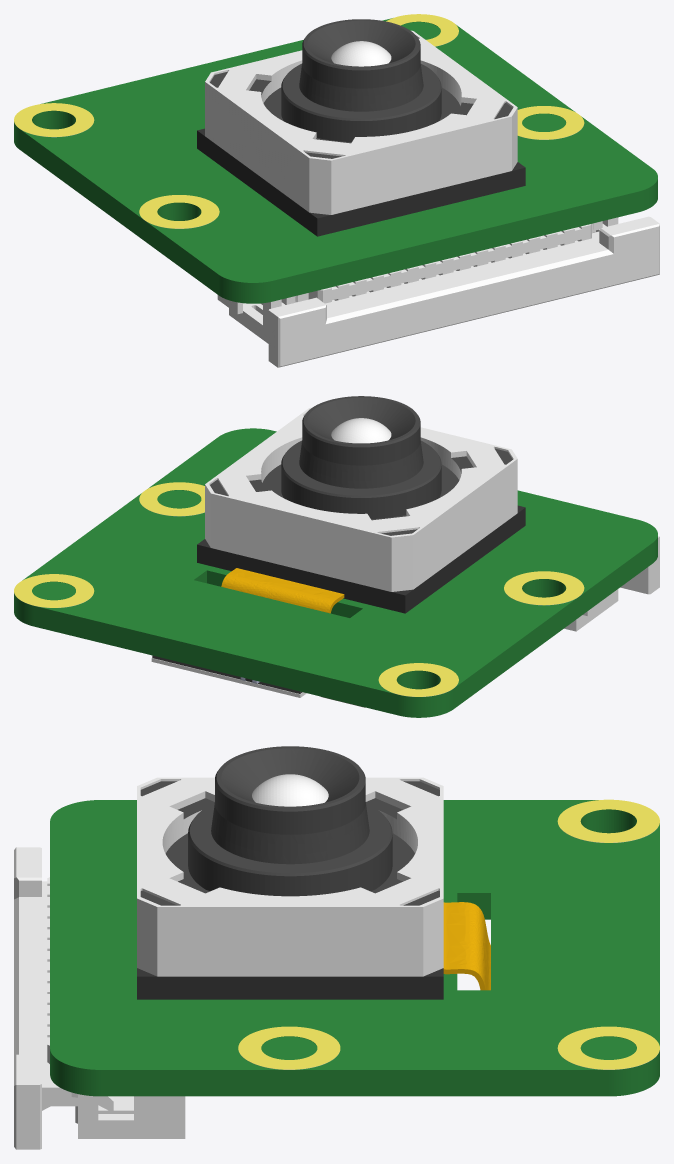
Rendered from camera.dae.
The picture shows the model from 3 angles, top to bottom: view 1: azimuth 30°, elevation 25°; view 2: azimuth 150°, elevation 25°; view 3: azimuth 270°, elevation 25°; orthographic projection. The views are drawn at different scales.
Visible parts, largest first — view 1: node_e5c1b228_738f_49db_8c3d_1d44927bc60f_mesh9, node_e5c1b228_738f_49db_8c3d_1d44927bc60f_mesh5, node_e5c1b228_738f_49db_8c3d_1d44927bc60f_mesh2, node_e5c1b228_738f_49db_8c3d_1d44927bc60f_mesh19, node_e5c1b228_738f_49db_8c3d_1d44927bc60f_mesh22, node_e5c1b228_738f_49db_8c3d_1d44927bc60f_mesh24; view 2: node_e5c1b228_738f_49db_8c3d_1d44927bc60f_mesh9, node_e5c1b228_738f_49db_8c3d_1d44927bc60f_mesh2, node_e5c1b228_738f_49db_8c3d_1d44927bc60f_mesh19, node_e5c1b228_738f_49db_8c3d_1d44927bc60f_mesh5, node_e5c1b228_738f_49db_8c3d_1d44927bc60f_mesh24, node_e5c1b228_738f_49db_8c3d_1d44927bc60f_mesh22, node_e5c1b228_738f_49db_8c3d_1d44927bc60f_mesh26, node_e5c1b228_738f_49db_8c3d_1d44927bc60f_mesh23; view 3: node_e5c1b228_738f_49db_8c3d_1d44927bc60f_mesh9, node_e5c1b228_738f_49db_8c3d_1d44927bc60f_mesh5, node_e5c1b228_738f_49db_8c3d_1d44927bc60f_mesh19, node_e5c1b228_738f_49db_8c3d_1d44927bc60f_mesh2, node_e5c1b228_738f_49db_8c3d_1d44927bc60f_mesh24, node_e5c1b228_738f_49db_8c3d_1d44927bc60f_mesh22, node_e5c1b228_738f_49db_8c3d_1d44927bc60f_mesh26, node_e5c1b228_738f_49db_8c3d_1d44927bc60f_mesh23.
Boxes of the visible parts, bbox=[...] form: node_e5c1b228_738f_49db_8c3d_1d44927bc60f_mesh9: bbox=[14, 18, 657, 303]; node_e5c1b228_738f_49db_8c3d_1d44927bc60f_mesh5: bbox=[15, 30, 659, 367]; node_e5c1b228_738f_49db_8c3d_1d44927bc60f_mesh2: bbox=[20, 35, 659, 367]; node_e5c1b228_738f_49db_8c3d_1d44927bc60f_mesh19: bbox=[249, 19, 473, 143]; node_e5c1b228_738f_49db_8c3d_1d44927bc60f_mesh22: bbox=[197, 128, 525, 236]; node_e5c1b228_738f_49db_8c3d_1d44927bc60f_mesh24: bbox=[14, 14, 584, 228]; node_e5c1b228_738f_49db_8c3d_1d44927bc60f_mesh9: bbox=[14, 428, 657, 717]; node_e5c1b228_738f_49db_8c3d_1d44927bc60f_mesh2: bbox=[20, 418, 659, 697]; node_e5c1b228_738f_49db_8c3d_1d44927bc60f_mesh19: bbox=[249, 396, 473, 520]; node_e5c1b228_738f_49db_8c3d_1d44927bc60f_mesh5: bbox=[90, 407, 648, 697]; node_e5c1b228_738f_49db_8c3d_1d44927bc60f_mesh24: bbox=[14, 482, 584, 696]; node_e5c1b228_738f_49db_8c3d_1d44927bc60f_mesh22: bbox=[197, 505, 525, 613]; node_e5c1b228_738f_49db_8c3d_1d44927bc60f_mesh26: bbox=[221, 568, 344, 613]; node_e5c1b228_738f_49db_8c3d_1d44927bc60f_mesh23: bbox=[152, 448, 512, 693]; node_e5c1b228_738f_49db_8c3d_1d44927bc60f_mesh9: bbox=[50, 800, 659, 1096]; node_e5c1b228_738f_49db_8c3d_1d44927bc60f_mesh5: bbox=[14, 777, 657, 1149]; node_e5c1b228_738f_49db_8c3d_1d44927bc60f_mesh19: bbox=[165, 746, 414, 896]; node_e5c1b228_738f_49db_8c3d_1d44927bc60f_mesh2: bbox=[14, 774, 657, 1149]; node_e5c1b228_738f_49db_8c3d_1d44927bc60f_mesh24: bbox=[238, 799, 659, 1069]; node_e5c1b228_738f_49db_8c3d_1d44927bc60f_mesh22: bbox=[137, 968, 443, 999]; node_e5c1b228_738f_49db_8c3d_1d44927bc60f_mesh26: bbox=[443, 902, 490, 990]; node_e5c1b228_738f_49db_8c3d_1d44927bc60f_mesh23: bbox=[140, 781, 439, 905].
Size of the model in its own units: 25 by 25.27 by 10.94.
